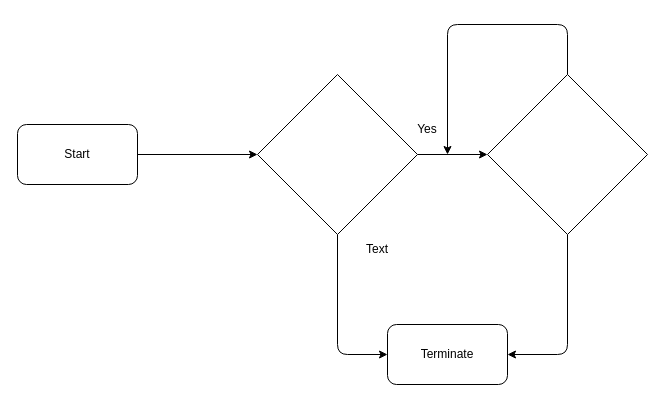
Image size: 665x402. Some labels were removed from this diagram. Here are the shapes that lost their labels. From the top down, the centre of each, then its label:
At point 337,154: "Check Head?".
At point 567,154: "print(currentNode.value)".
